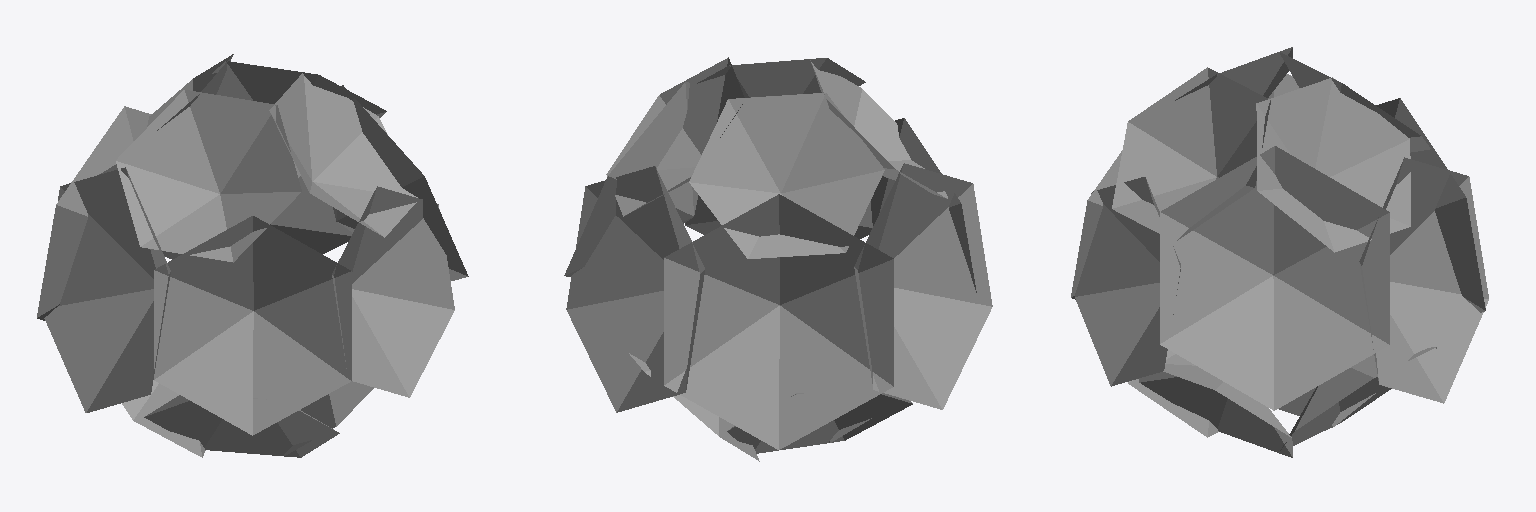
Rendered from Petals_1.obj.
The picture shows the model from 3 angles: view 1: azimuth 30°, elevation 25°; view 2: azimuth 150°, elevation 25°; view 3: azimuth 270°, elevation 25°; orthographic projection.
Parts seen in each view (by area): view 1: Petals_1_Plane.027; view 2: Petals_1_Plane.027; view 3: Petals_1_Plane.027.
Part boxes in pixels (left/top/right/bottom): Petals_1_Plane.027: left=37, top=54, right=468, bottom=457; Petals_1_Plane.027: left=564, top=57, right=992, bottom=461; Petals_1_Plane.027: left=1071, top=47, right=1488, bottom=457.
Size of the model in its own units: 0.6381 by 0.6267 by 0.6698.